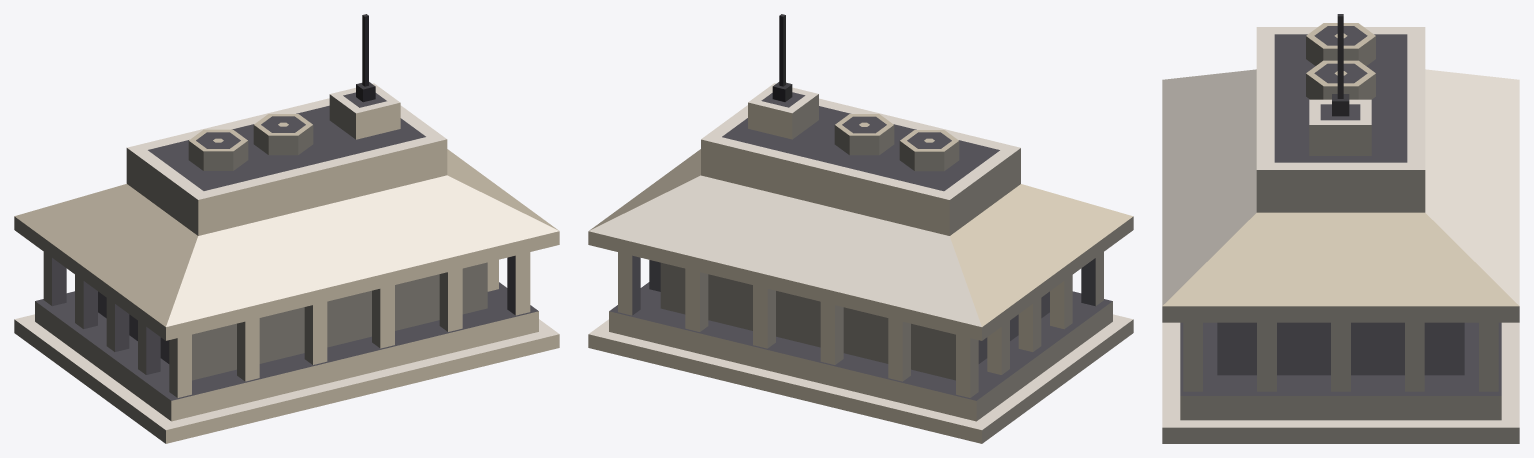
Rendered from TB_CITY_Skysc_E_Top_Brown.FBX.
3 renders of one model, left to right at view 1: azimuth 30°, elevation 25°; view 2: azimuth 150°, elevation 25°; view 3: azimuth 270°, elevation 25°, orthographic. The views are drawn at different scales.
Visible parts, largest first — view 1: TB_CITY_Skysc_E_Top_Brown; view 2: TB_CITY_Skysc_E_Top_Brown; view 3: TB_CITY_Skysc_E_Top_Brown.
Part boxes in pixels (left/top/right/bottom): TB_CITY_Skysc_E_Top_Brown: left=14, top=14, right=559, bottom=443; TB_CITY_Skysc_E_Top_Brown: left=588, top=14, right=1133, bottom=443; TB_CITY_Skysc_E_Top_Brown: left=1162, top=14, right=1519, bottom=443.
Bounding box in the file's own units: 30 × 22.27 × 20.
